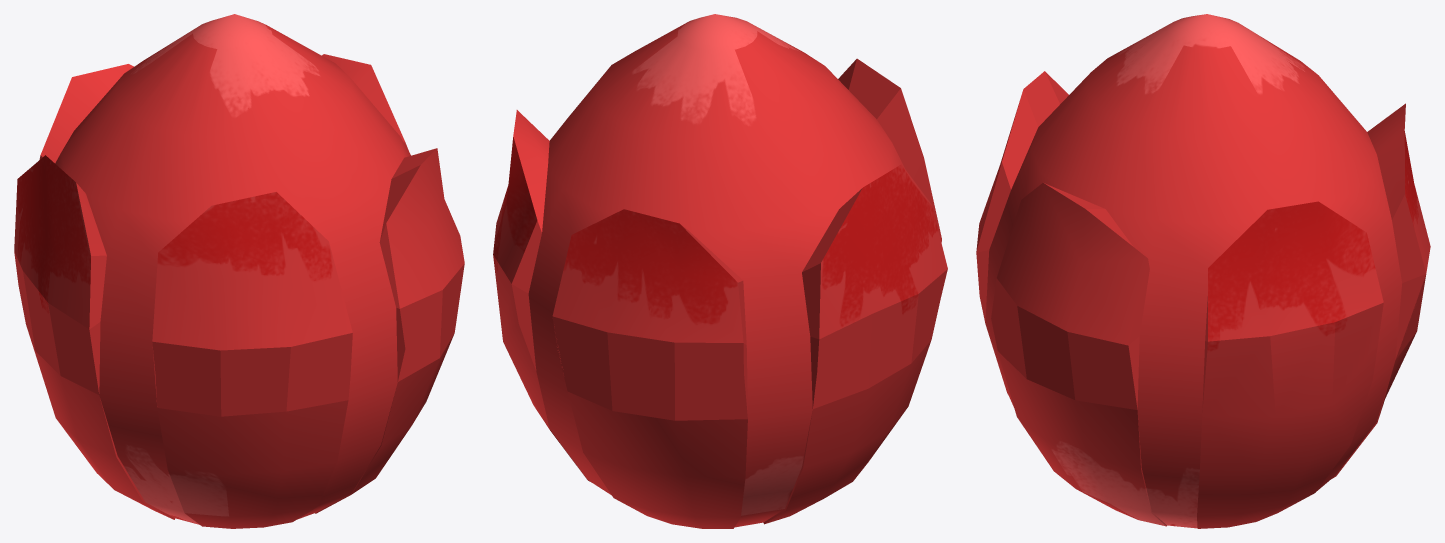
The model's file is flower1.fbx.
3 renders of one model, left to right at view 1: azimuth 30°, elevation 25°; view 2: azimuth 150°, elevation 25°; view 3: azimuth 270°, elevation 25°, orthographic.
Parts seen in each view (by area): view 1: Infection_1; view 2: Infection_1; view 3: Infection_1.
Boxes of the visible parts, x1,y1,x2,y2 form: Infection_1: [14, 14, 464, 528]; Infection_1: [493, 14, 947, 528]; Infection_1: [976, 14, 1430, 528].
Size of the model in its own units: 1.76 by 2.13 by 1.77.
